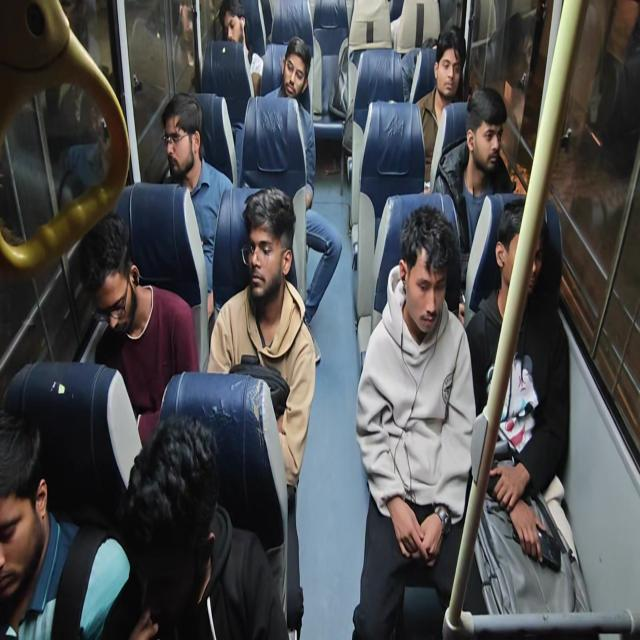person: (352, 203, 476, 638), (462, 199, 588, 615), (207, 186, 316, 636), (114, 412, 290, 639), (0, 407, 156, 638), (79, 210, 199, 446), (263, 36, 342, 363), (160, 92, 234, 320), (432, 86, 517, 253), (414, 25, 466, 188), (218, 0, 264, 97), (265, 35, 312, 115)
